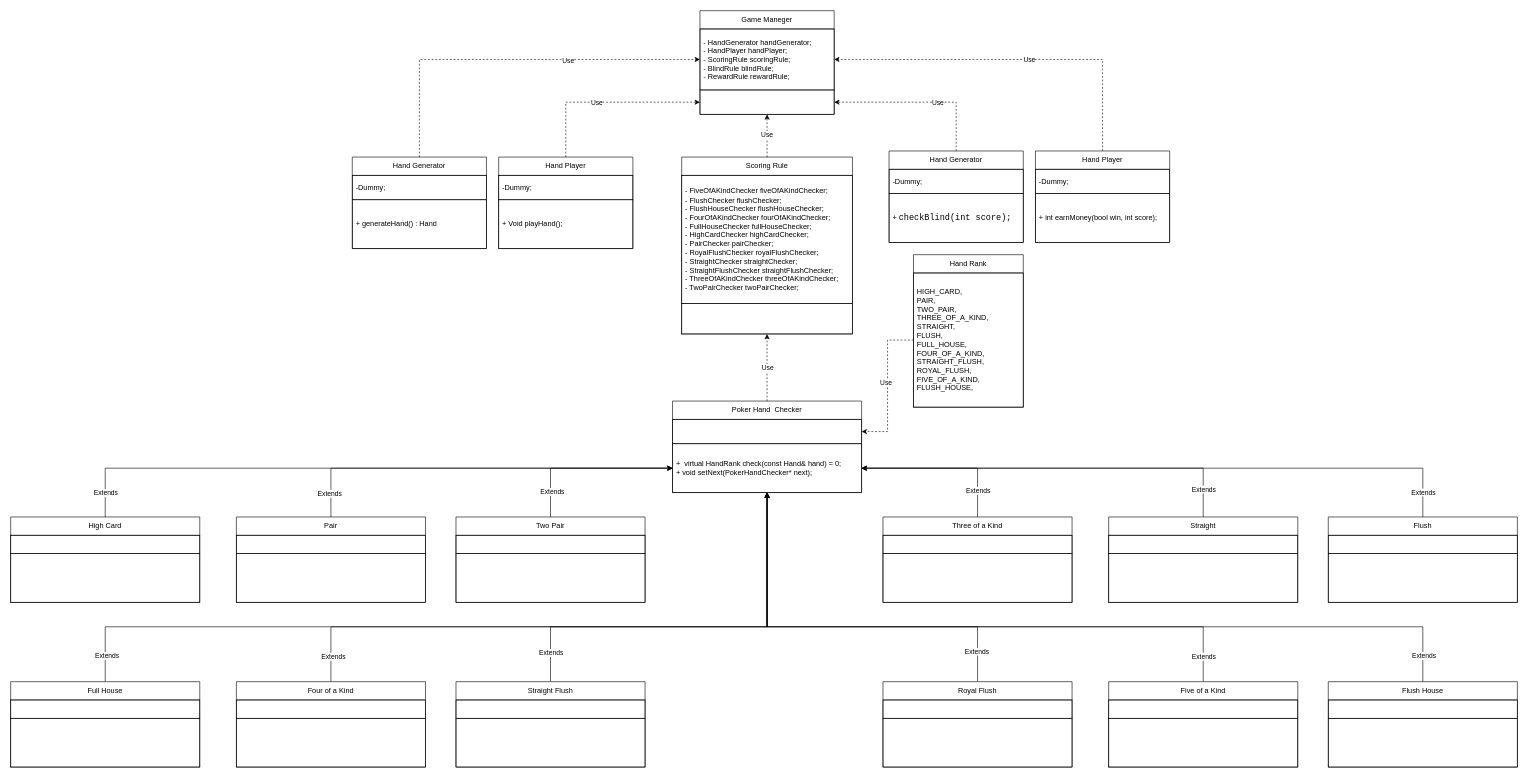
This 1528x778 diagram has some shape labels left out. Here are the shapes that lost their labels. From the top down, the centre of each, then its label:
At pixel 766 101: "+ Void runSession();".
At pixel 766 318: "+ ScoringRule(); + int scoreHand(const Hand &hand);".
At pixel 767 431: "PokerHandChecker* nextChecker = nullptr;".
At pixel 105 577: "+ return nextChecker->check(hand); + bool isHighCard(const Hand& hand)".
At pixel 330 577: "+ return nextChecker->check(hand); + bool isPair(const Hand& hand)".
At pixel 550 577: "+ return nextChecker->check(hand); + bool isTwoPair(const Hand& hand)".
At pixel 977 577: "+ return nextChecker->check(hand); + bool isTreeOfAKind(const Hand& hand)".
At pixel 1203 577: "+ return nextChecker->check(hand); + bool isStraight(const Hand& hand)".
At pixel 1422 577: "+ return nextChecker->check(hand); + bool isFlush(const Hand& hand)".
At pixel 105 742: "+ return nextChecker->check(hand); + bool isFullHouse(const Hand& hand)".
At pixel 330 742: "+ return nextChecker->check(hand); + bool isFourOfAKind(const Hand& hand)".
At pixel 550 742: "+ return nextChecker->check(hand); + bool isStraightFlush(const Hand& hand)".
At pixel 977 742: "+ return nextChecker->check(hand); + bool isRoyalFlush(const Hand& hand)".
At pixel 1203 742: "+ return nextChecker->check(hand); + bool isFiveOfAKind(const Hand& hand)".
At pixel 1422 742: "+ return nextChecker->check(hand); + bool isFlushHouse(const Hand& hand)".
